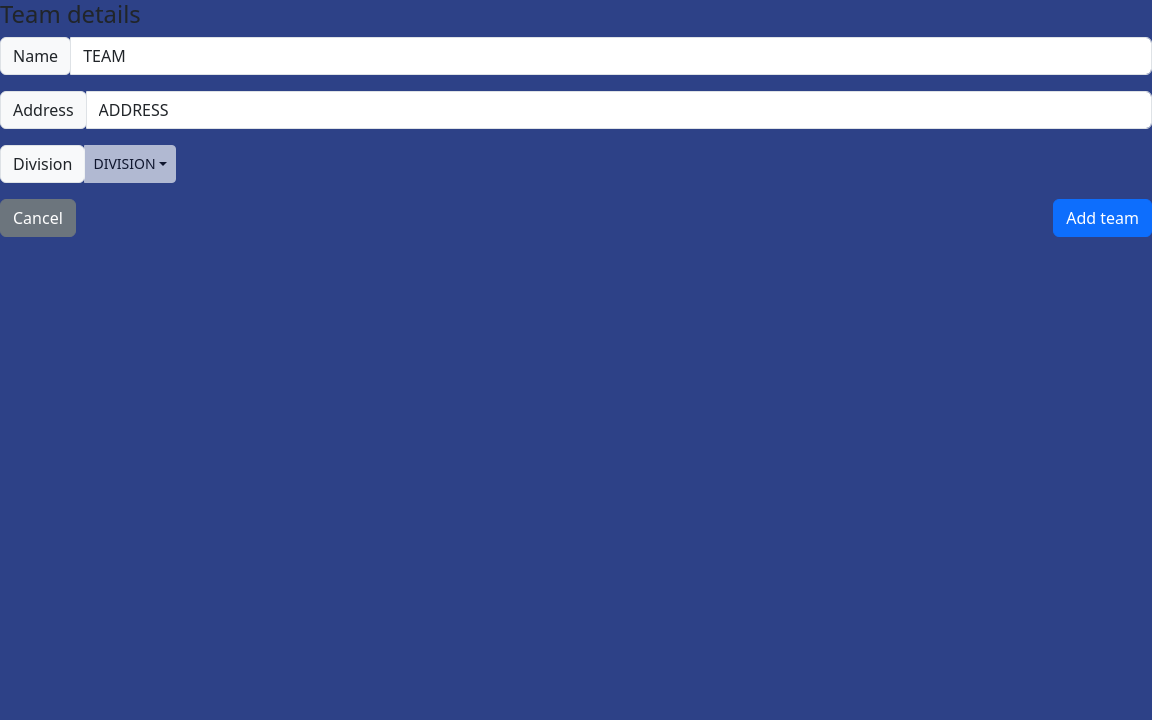
EditTeamDetails › interactivity › can close error dialog after save failure
Click the button "Add team" at (1103, 218), box [1053, 199, 1151, 237]
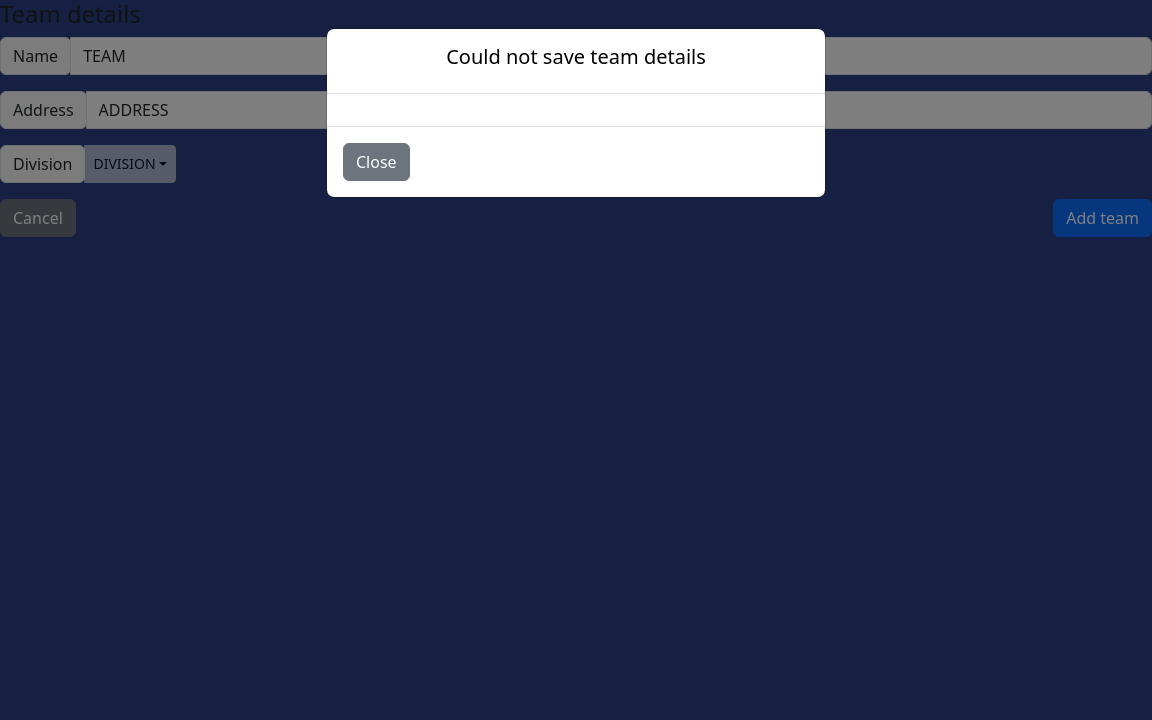
Now the text "Could not save team details" is shown, box [446, 45, 706, 69]
Click the button "Close" at (376, 162), box [343, 143, 410, 181]
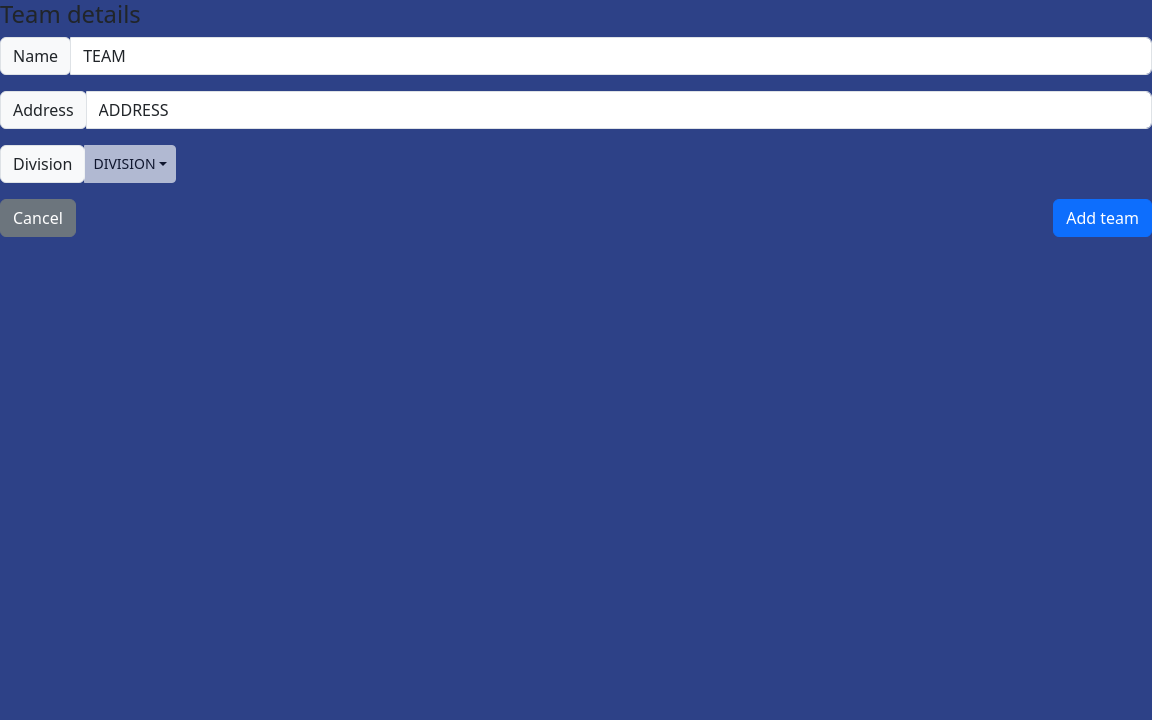
Now the text "Could not save team details" is gone
